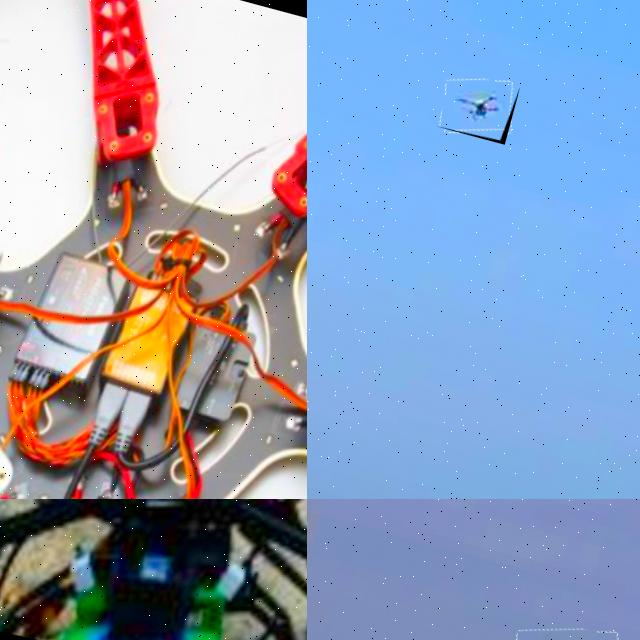drone: (0, 0, 307, 499), (0, 499, 307, 640), (436, 70, 520, 144), (505, 613, 628, 640)
